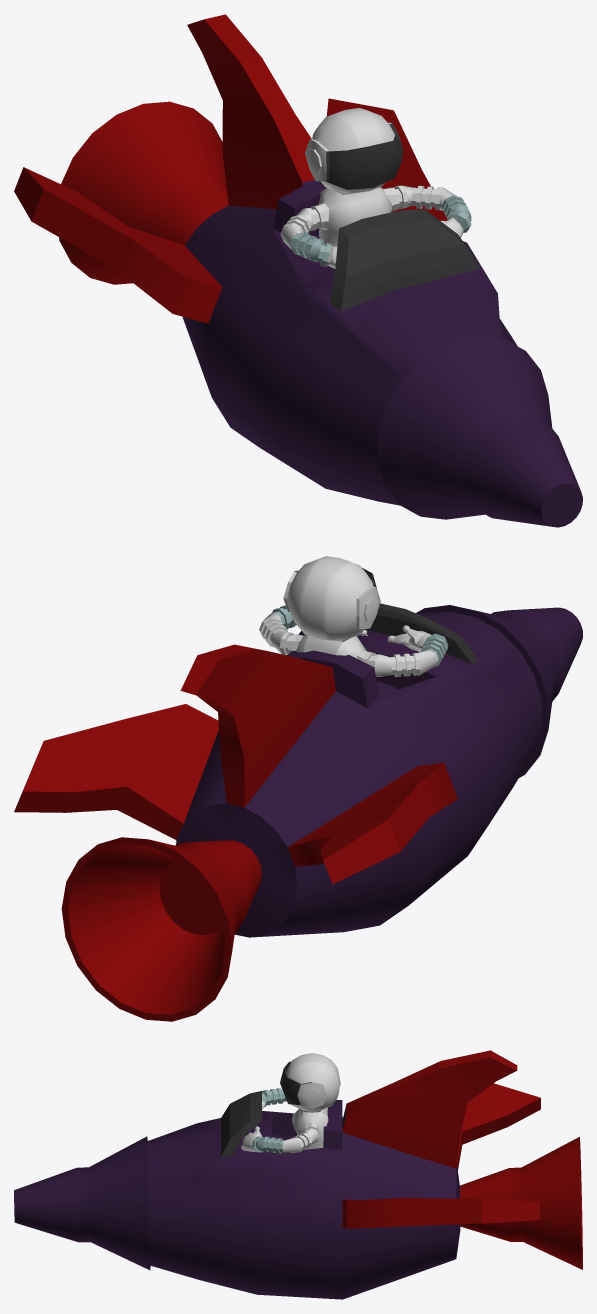
File: rocket.fbx
3 renders of one model, top to bottom at view 1: azimuth 30°, elevation 25°; view 2: azimuth 150°, elevation 25°; view 3: azimuth 270°, elevation 25°, orthographic. The views are drawn at different scales.
Parts seen in each view (by area): view 1: pCylinder5, pCylinder4, pCube13; view 2: pCylinder5, pCylinder4, pCube13; view 3: pCylinder5, pCylinder4, pCube13.
Part boxes in pixels (left/top/right/bottom): pCylinder5: left=14, top=14, right=582, bottom=527; pCylinder4: left=59, top=101, right=228, bottom=284; pCube13: left=280, top=108, right=471, bottom=268; pCylinder5: left=14, top=603, right=582, bottom=937; pCylinder4: left=61, top=837, right=261, bottom=1021; pCube13: left=259, top=556, right=448, bottom=677; pCylinder5: left=14, top=1050, right=540, bottom=1299; pCylinder4: left=460, top=1137, right=582, bottom=1269; pCube13: left=241, top=1053, right=340, bottom=1153.
Bounding box in the file's own units: 4.32 × 3.9 × 8.46.
